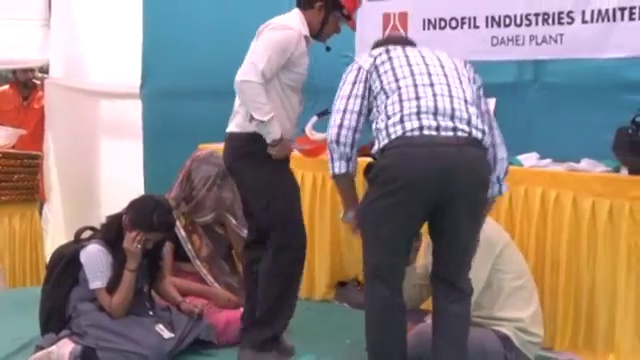helmet: (0, 119, 29, 157), (338, 0, 362, 31)
helmet_off: (171, 152, 235, 231), (107, 194, 179, 256), (5, 60, 34, 91)
helmet_on: (293, 0, 364, 45)
person: (325, 33, 503, 359), (224, 1, 363, 359), (33, 193, 205, 355), (403, 215, 545, 360), (161, 135, 250, 340), (0, 61, 52, 169)
